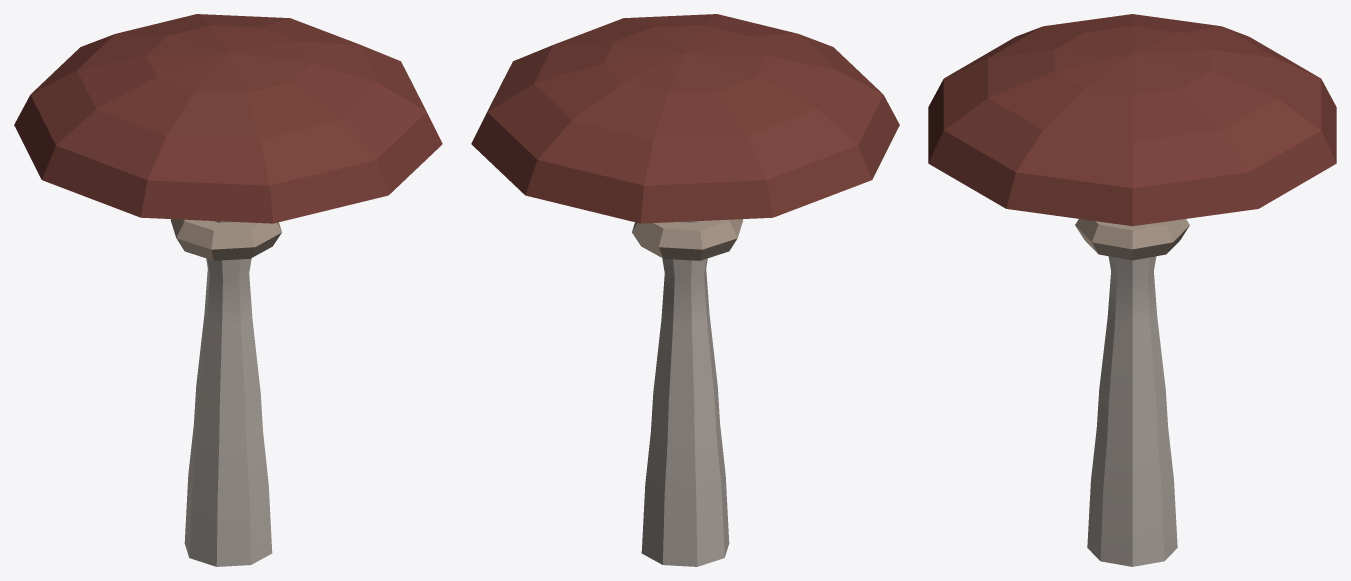
Rendered from mushroom003.fbx.
3 views of the same model, side by side, from view 1: azimuth 30°, elevation 25°; view 2: azimuth 150°, elevation 25°; view 3: azimuth 270°, elevation 25° (orthographic).
Parts seen in each view (by area): view 1: mushroom003; view 2: mushroom003; view 3: mushroom003.
Part boxes in pixels (<box>): mushroom003: <box>14,14,442,566</box>; mushroom003: <box>471,14,899,566</box>; mushroom003: <box>928,14,1336,566</box>.
Size of the model in its own units: 6.84 by 6.51 by 8.67.
